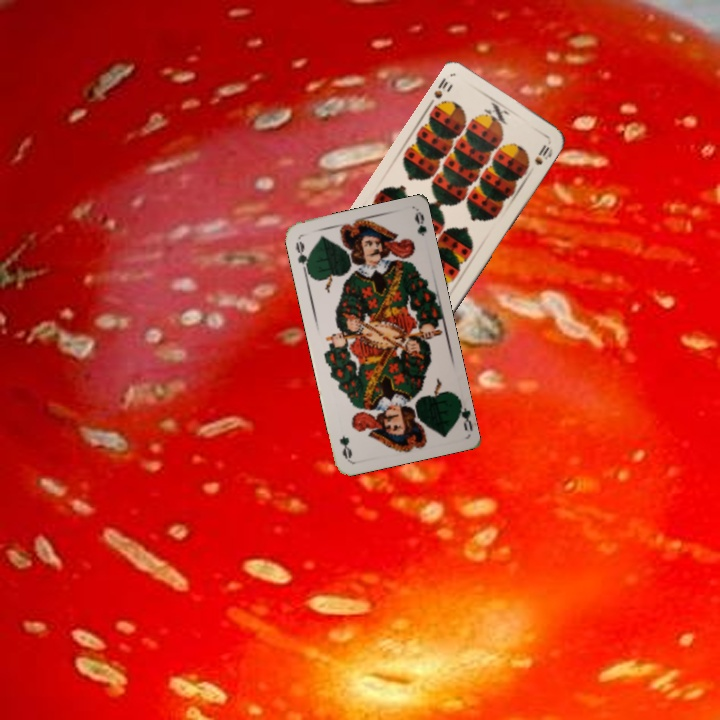GO: (452, 394, 473, 434), (292, 237, 312, 276)
S10: (430, 74, 450, 101)
